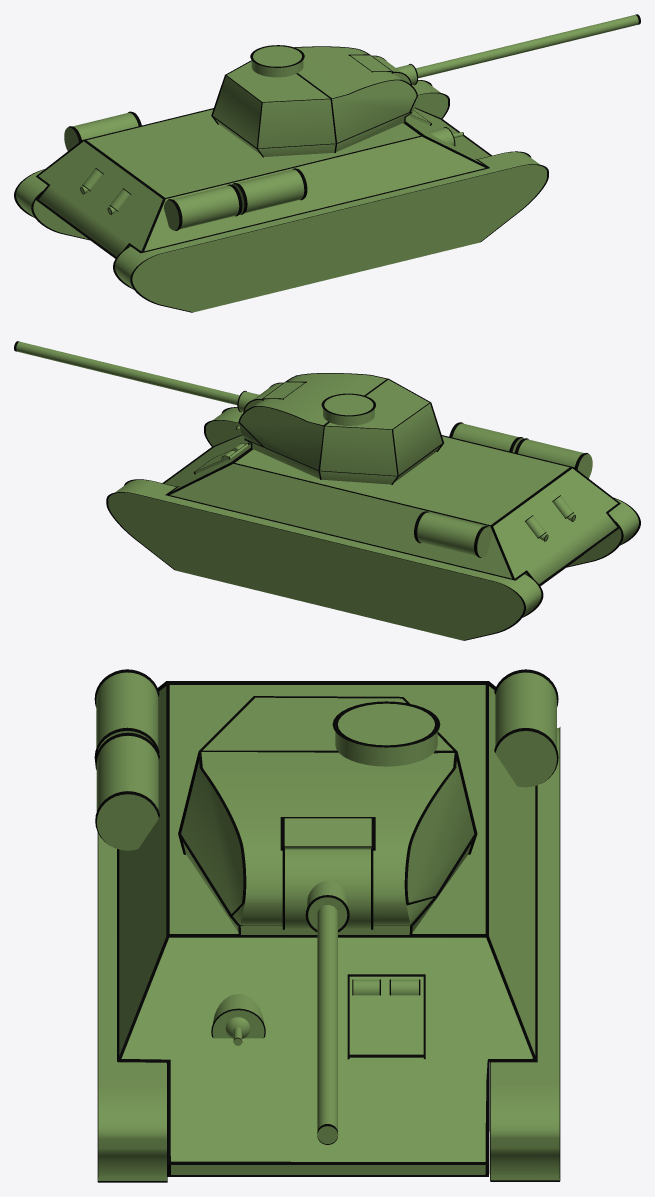
Rendered from urrstank_t3485_visual.glb.
3 views of the same model, one above another, from view 1: azimuth 30°, elevation 25°; view 2: azimuth 150°, elevation 25°; view 3: azimuth 270°, elevation 25° (orthographic). The views are drawn at different scales.
Parts seen in each view (by area): view 1: Cubo, Cubo.004, Cubo.001, Cilindro.013, Cilindro.001, Cubo.005, Cilindro.007, Cubo.008, Cubo.007, Cilindro.009, Cilindro.011, Cubo.006; view 2: Cubo, Cubo.005, Cubo.001, Cilindro.013, Cilindro.001, Cubo.004, Cilindro.007, Cubo.008, Cubo.006, Cilindro.011, Cilindro.009; view 3: Cubo, Cubo.001, Cilindro.013, Cubo.005, Cubo.004, Cubo.003, Cilindro.007, Cilindro.002, Cilindro.001, Cubo.008, Cubo.002, Cilindro.009 (+5 smaller).
Part boxes in pixels (bbox=[...]): Cubo: bbox=[36, 107, 491, 259]; Cubo.004: bbox=[115, 152, 546, 312]; Cubo.001: bbox=[213, 47, 416, 156]; Cilindro.013: bbox=[64, 112, 304, 230]; Cilindro.001: bbox=[416, 15, 638, 78]; Cubo.005: bbox=[16, 80, 447, 239]; Cilindro.007: bbox=[251, 46, 303, 77]; Cubo.008: bbox=[211, 46, 417, 157]; Cubo.007: bbox=[113, 151, 548, 312]; Cilindro.009: bbox=[68, 111, 307, 230]; Cilindro.011: bbox=[81, 168, 130, 213]; Cubo.006: bbox=[14, 80, 449, 240]; Cubo: bbox=[162, 434, 620, 586]; Cubo.005: bbox=[108, 480, 541, 640]; Cubo.001: bbox=[239, 373, 442, 484]; Cilindro.013: bbox=[417, 423, 592, 557]; Cilindro.001: bbox=[16, 341, 239, 405]; Cubo.004: bbox=[206, 407, 638, 566]; Cilindro.007: bbox=[323, 394, 374, 425]; Cubo.008: bbox=[238, 373, 443, 484]; Cubo.006: bbox=[106, 479, 543, 640]; Cilindro.011: bbox=[525, 496, 575, 540]; Cilindro.009: bbox=[414, 422, 589, 557]; Cubo: bbox=[117, 681, 537, 1176]; Cubo.001: bbox=[181, 697, 474, 934]; Cilindro.013: bbox=[96, 672, 556, 850]; Cubo.005: bbox=[490, 728, 559, 1180]; Cubo.004: bbox=[98, 834, 167, 1180]; Cubo.003: bbox=[347, 974, 425, 1059]; Cilindro.007: bbox=[335, 703, 437, 766]; Cilindro.002: bbox=[285, 849, 370, 928]; Cilindro.001: bbox=[317, 905, 337, 1143]; Cubo.008: bbox=[178, 696, 477, 935]; Cubo.002: bbox=[280, 817, 375, 850]; Cilindro.009: bbox=[94, 669, 558, 845].
Bounding box in the file's own units: 12.59 × 3.51 × 4.48.
